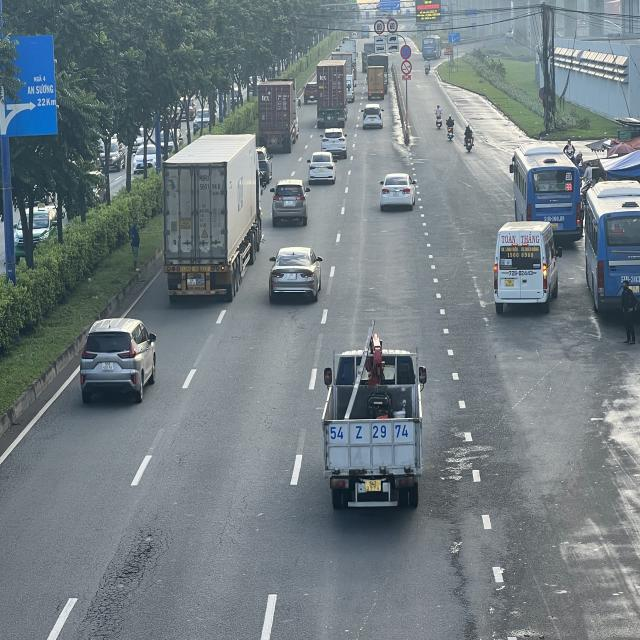car: (80, 317, 158, 402), (267, 246, 322, 302), (378, 172, 416, 209)
coach: (581, 180, 637, 317), (511, 144, 581, 240)
container: (162, 132, 266, 302), (258, 78, 302, 148), (318, 60, 350, 125)
truck: (320, 348, 424, 517), (366, 65, 387, 102)
van: (495, 223, 561, 314)
